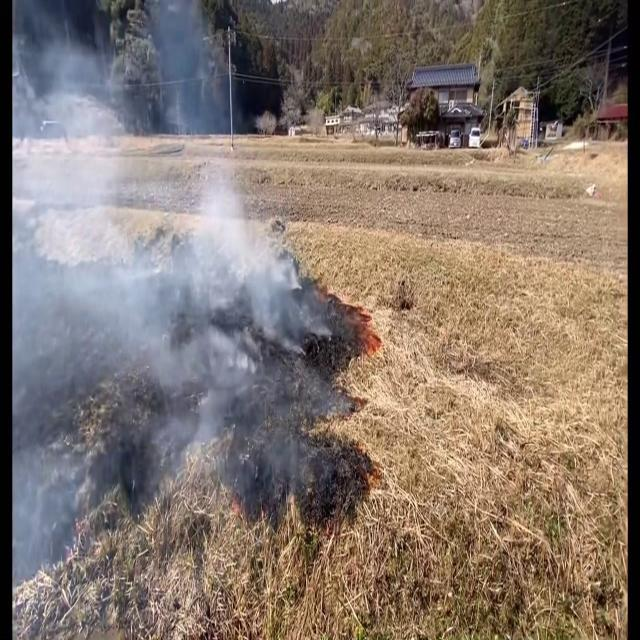Smoke: (14, 1, 324, 506)
